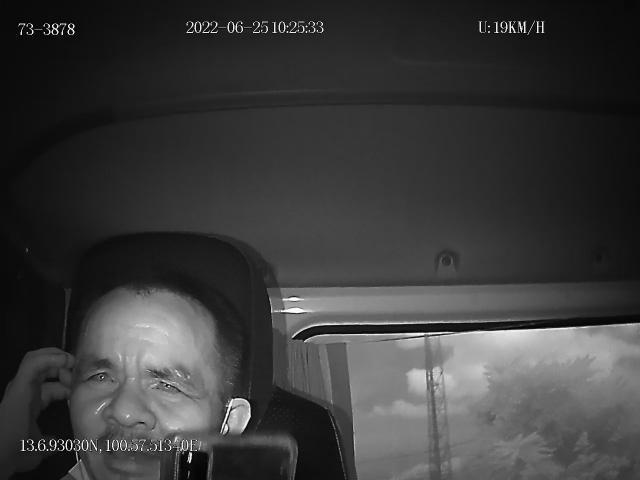PhoneUse: (160, 434, 298, 480)
SafeDriving: (143, 366, 195, 402), (77, 359, 122, 391)
